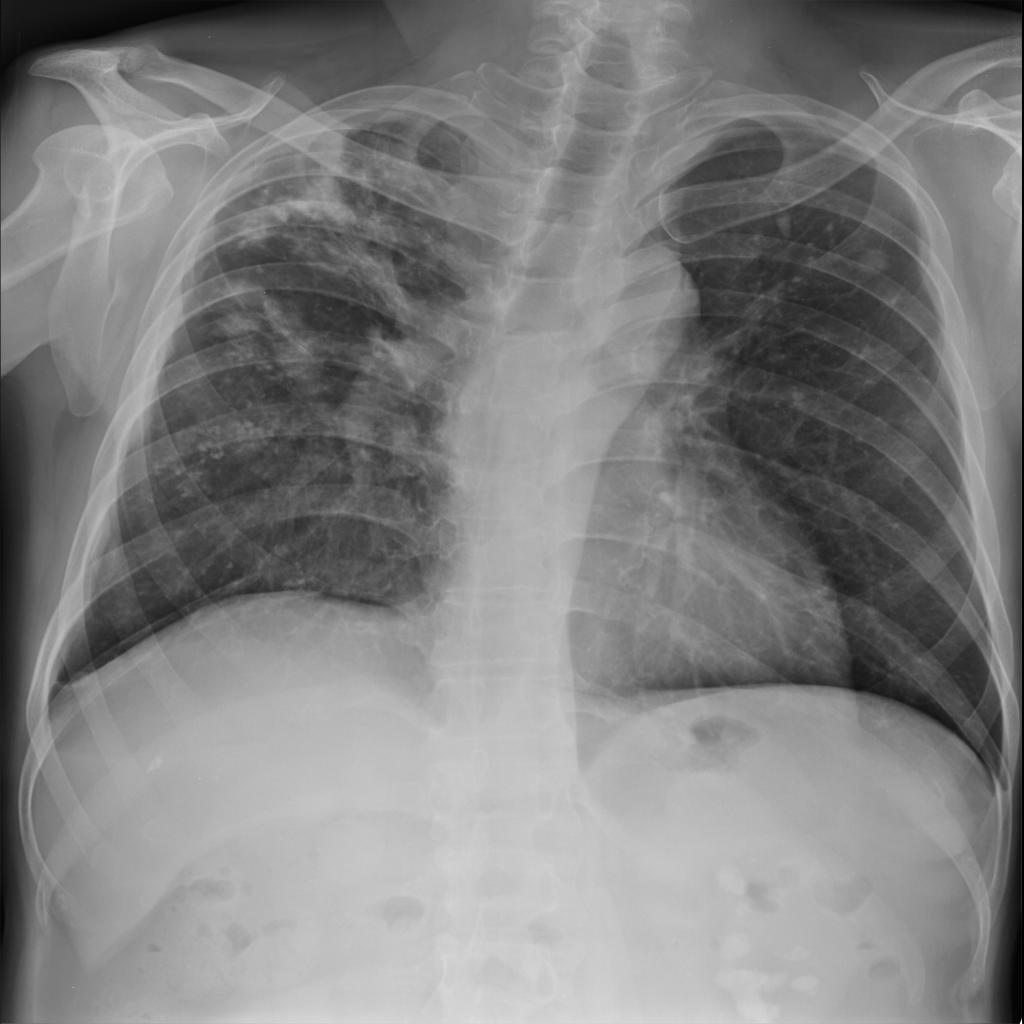Nodule: (859, 248, 889, 278)
